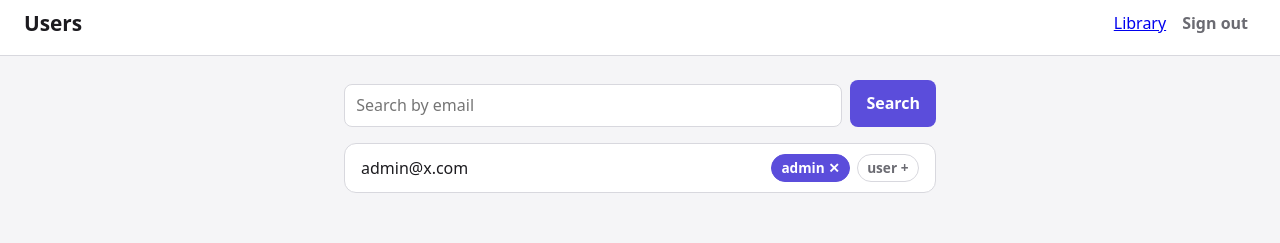
it: AdminUsersPage › surfaces a failed role change (e.g. last-admin lockout)
Expected: the text "admin@x.com" is shown, [361,157,468,179]
Click the button "admin ✕": point(810, 168) [771,154,850,182]
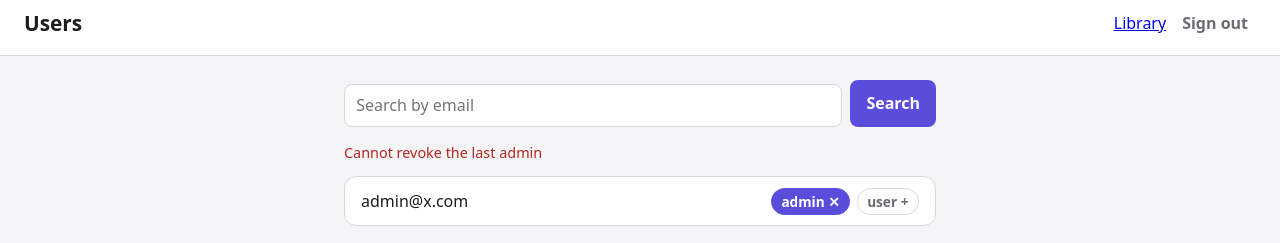
Expected: the text "Cannot revoke the last admin" is shown, [344,143,542,162]
